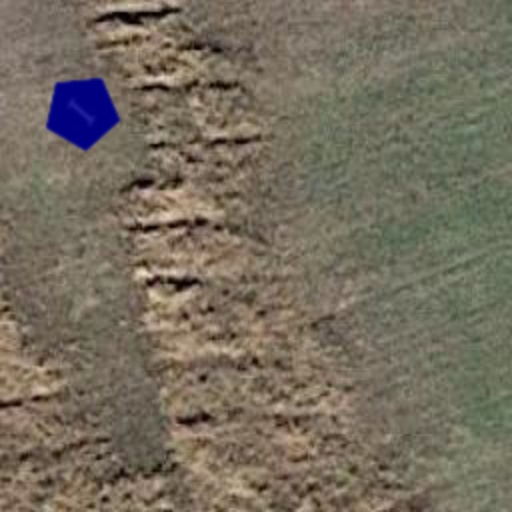pentagon: (26, 56, 138, 168)
